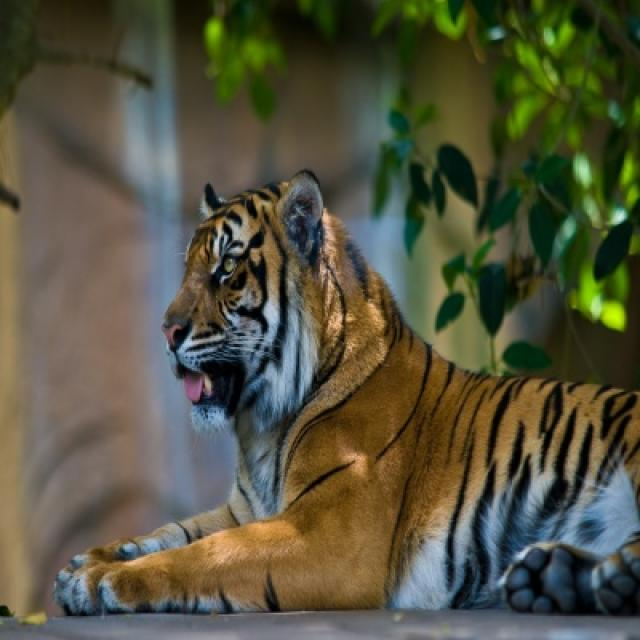Tiger: (54, 171, 638, 614)
